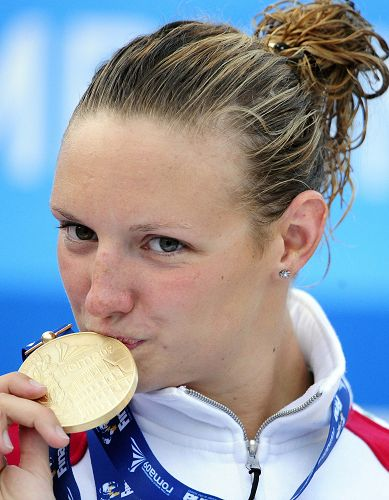face: (47, 115, 255, 393)
